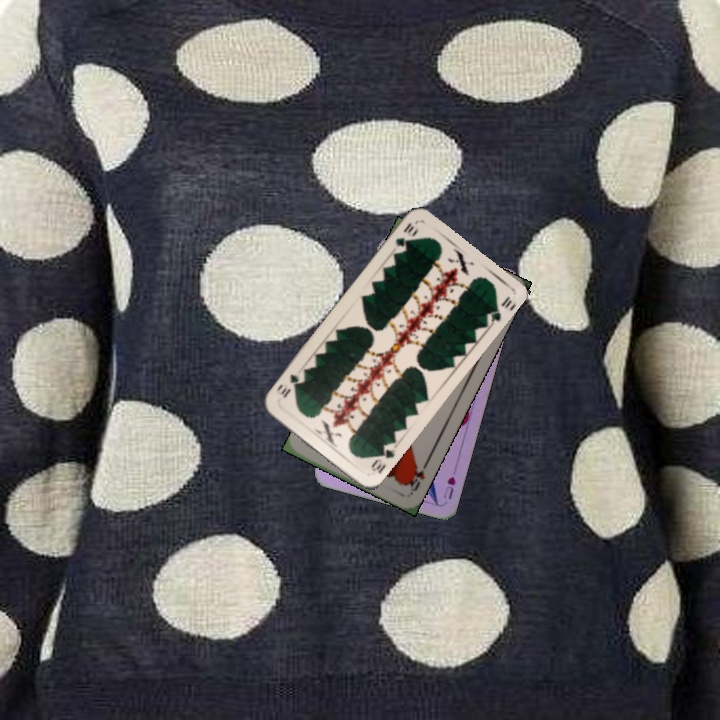G10: (367, 439, 398, 476), (391, 218, 417, 250)
HO: (402, 458, 431, 496)
HU: (439, 472, 458, 502)
